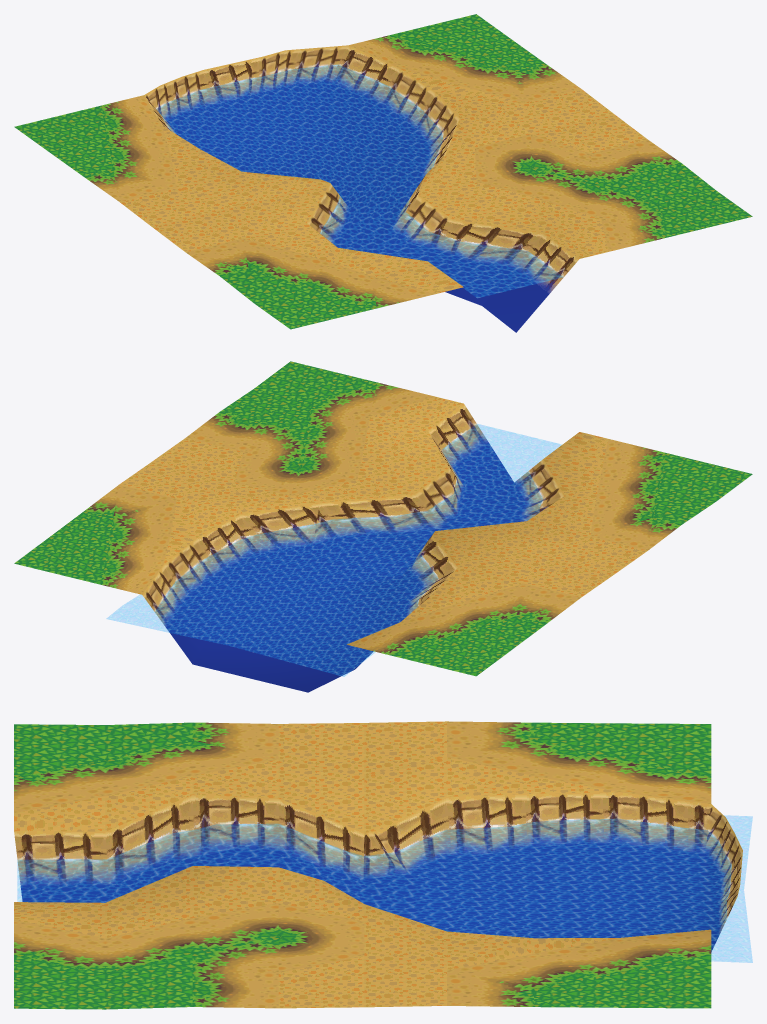
Rendered from c_grd_r1_f_3.001.glb.
3 views of the same model, one above another, from view 1: azimuth 30°, elevation 25°; view 2: azimuth 150°, elevation 25°; view 3: azimuth 270°, elevation 25° (orthographic). The views are drawn at different scales.
Parts seen in each view (by area): view 1: c_grd_r1_f_3.001; view 2: c_grd_r1_f_3.001; view 3: c_grd_r1_f_3.001.
Boxes of the visible parts, box(x1,y1,x2,y2) form: c_grd_r1_f_3.001: box(14, 14, 752, 332); c_grd_r1_f_3.001: box(14, 361, 752, 692); c_grd_r1_f_3.001: box(14, 721, 752, 1009).
Bounding box in the file's own units: 32 × 4.37 × 35.14.
5 materials, 5 textured.
